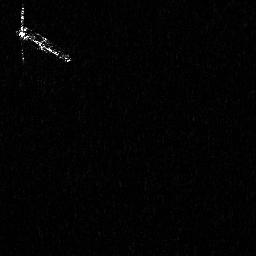ship: (12, 2, 73, 65)
